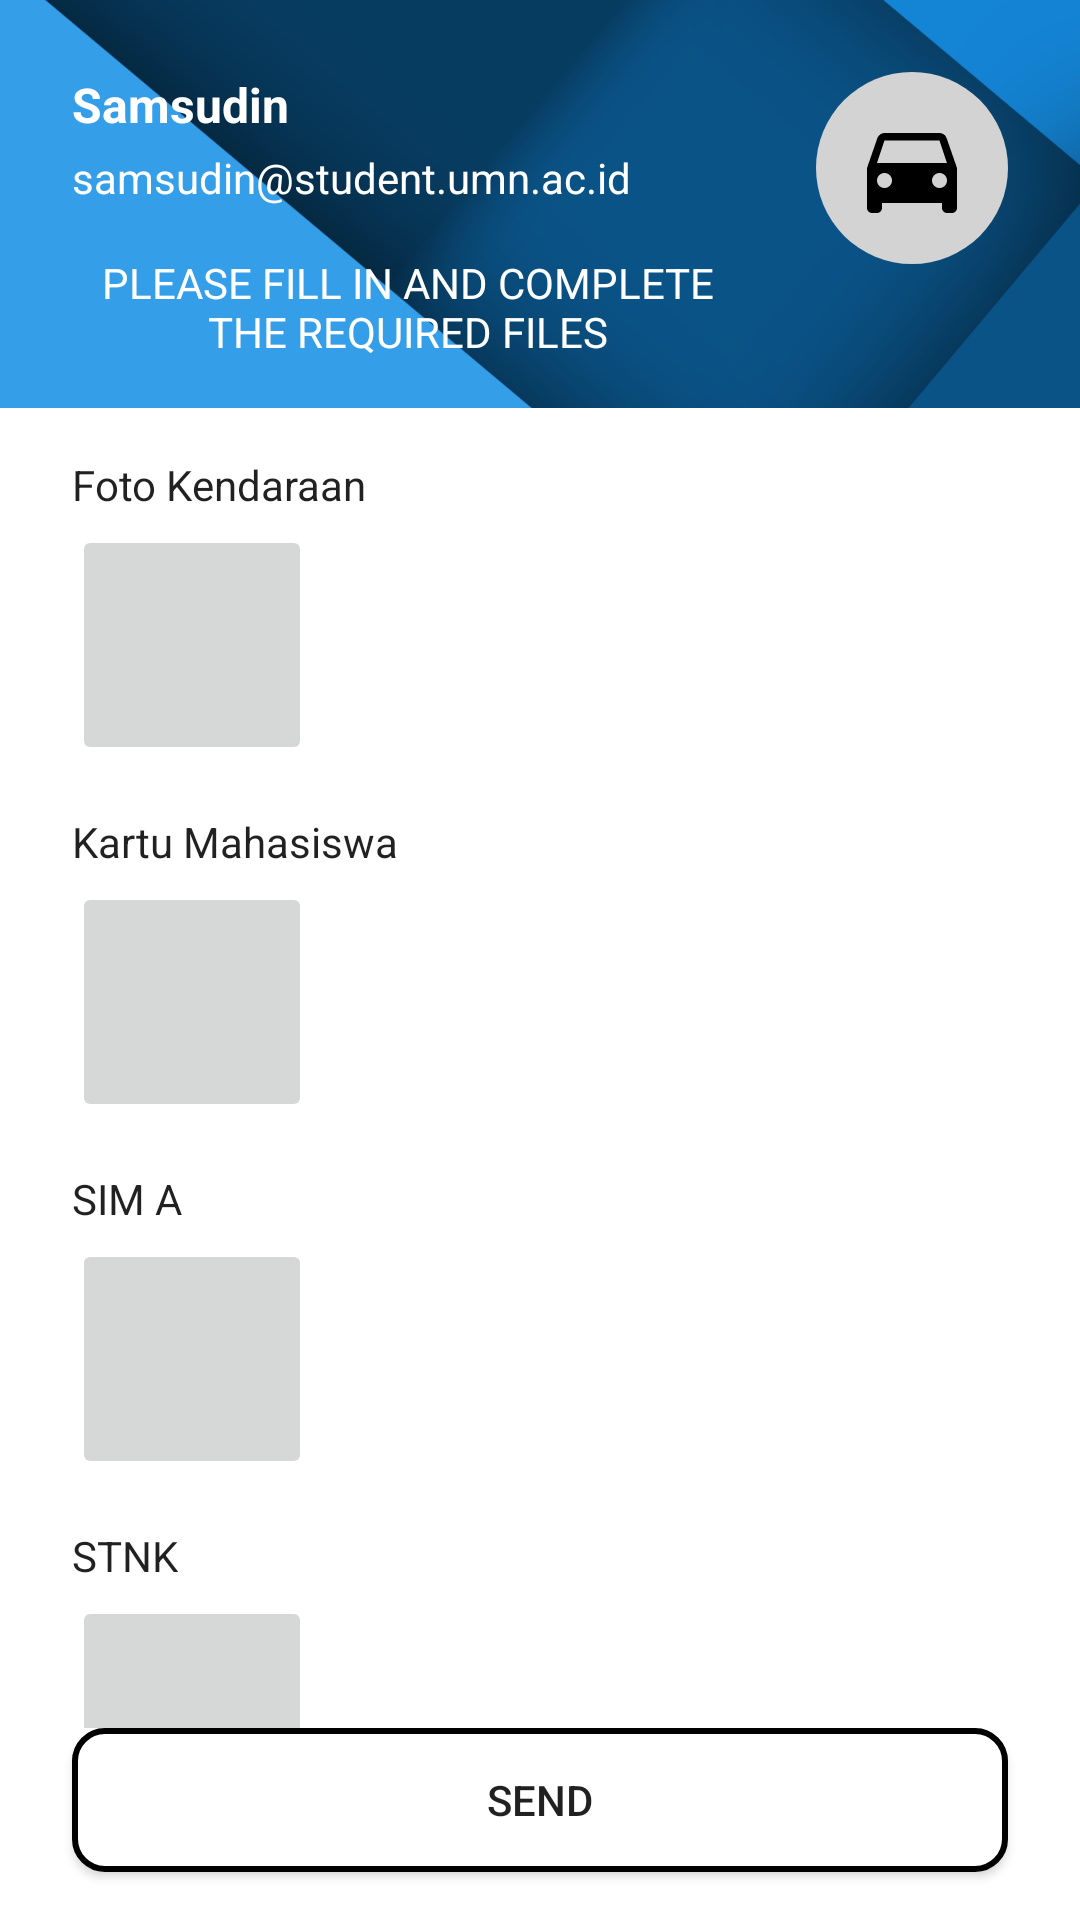

Icons on this 1080 × 1920 Android screen, each with the point to tap as point (x, y):
directions car: point (912, 168)
